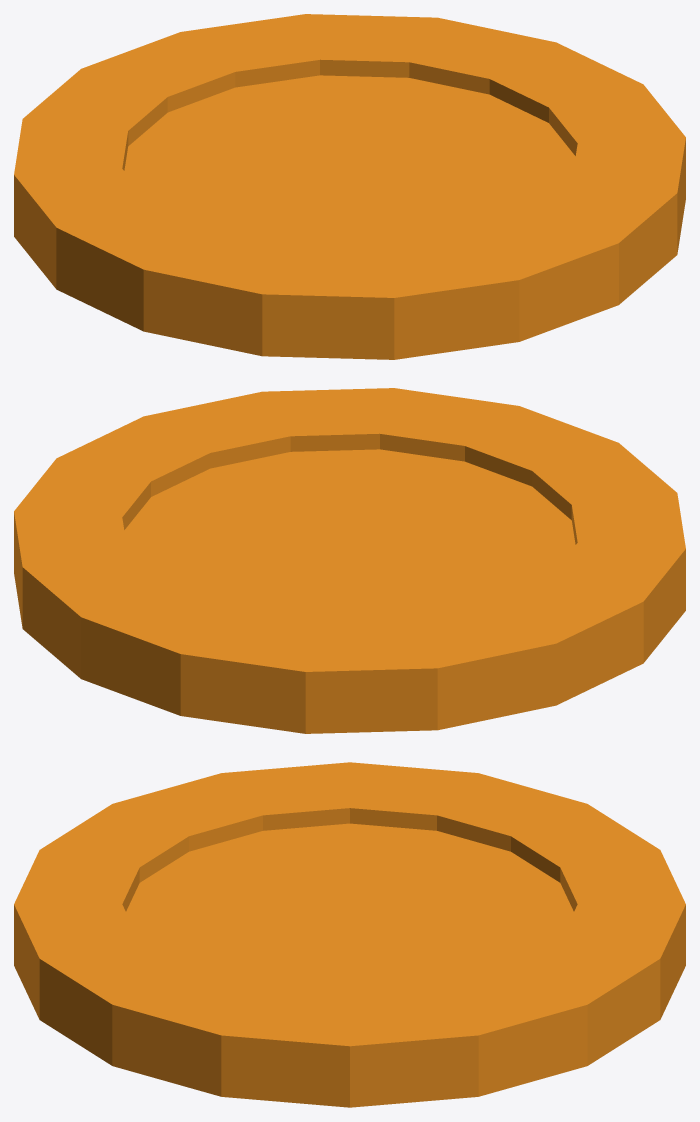
Rendered from bitcoin.glb.
3 views of the same model, one above another, from view 1: azimuth 30°, elevation 25°; view 2: azimuth 150°, elevation 25°; view 3: azimuth 270°, elevation 25° (orthographic).
Visible parts, largest first — view 1: coin; view 2: coin; view 3: coin.
Boxes of the visible parts, x1,y1,x2,y2 form: coin: (14,14,685,359); coin: (14,388,685,733); coin: (14,762,685,1107).
Bounding box in the file's own units: 0.7184 × 0.0724 × 0.7184.
